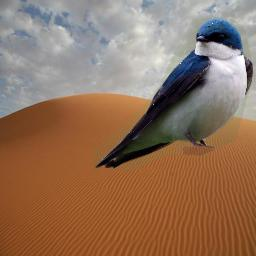Swallow: (94, 17, 254, 170)
